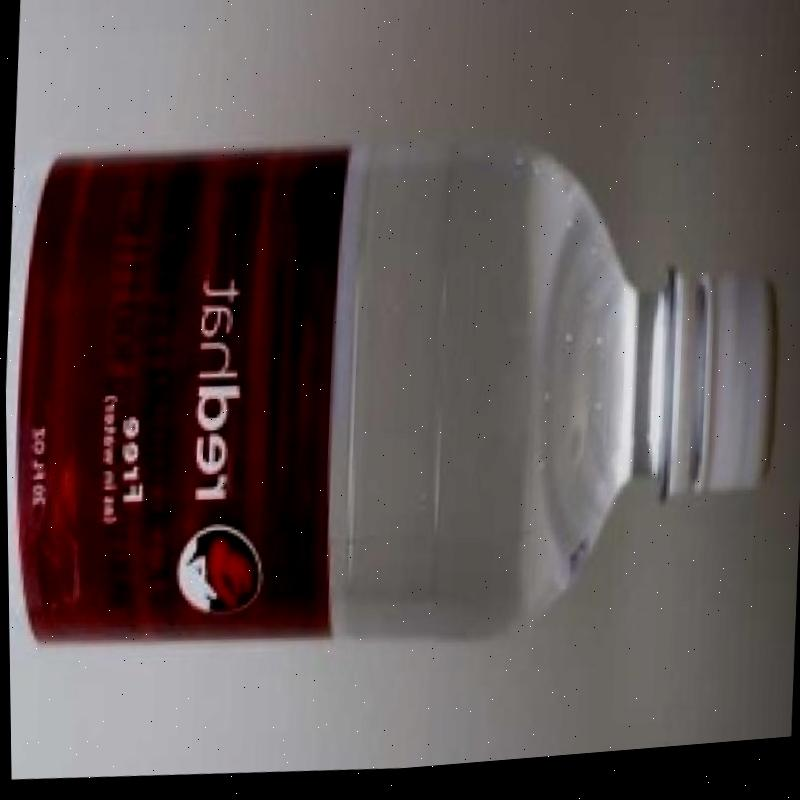botella: (2, 95, 792, 704)
